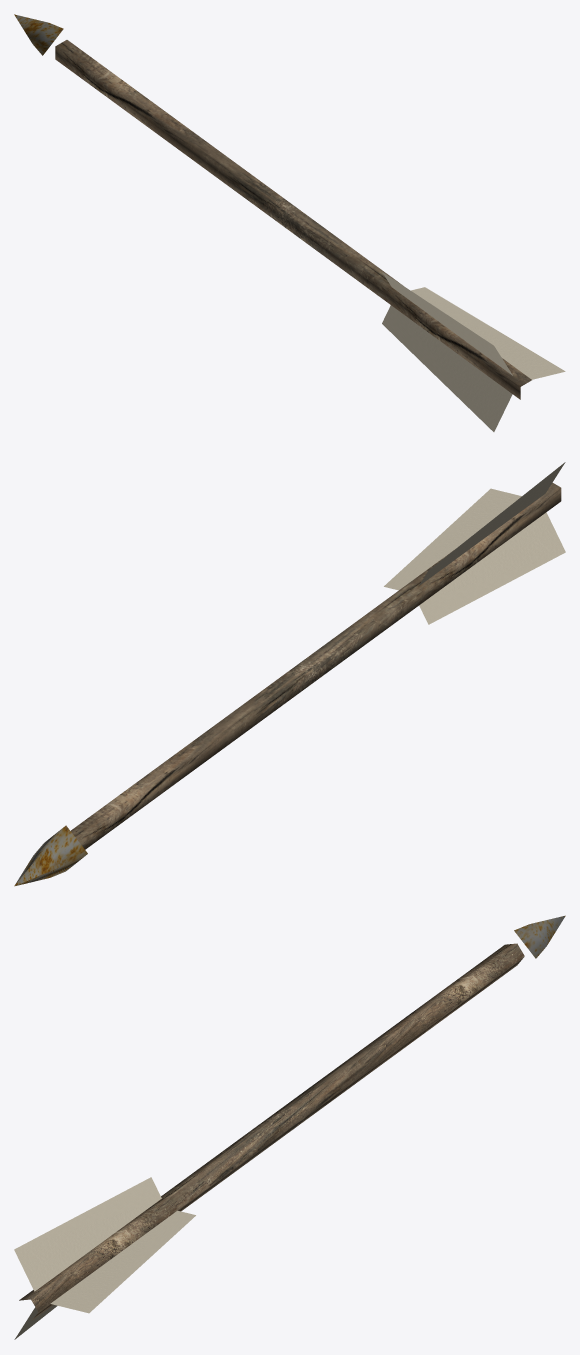
File: Arrow.gltf
The picture shows the model from 3 angles, top to bottom: view 1: azimuth 30°, elevation 25°; view 2: azimuth 150°, elevation 25°; view 3: azimuth 330°, elevation 25°; orthographic projection. The views are drawn at different scales.
Parts seen in each view (by area): view 1: Arrow; view 2: Arrow; view 3: Arrow.
Part boxes in pixels (bbox=[...]): Arrow: bbox=[14, 14, 565, 431]; Arrow: bbox=[14, 462, 565, 886]; Arrow: bbox=[14, 915, 565, 1339].
Size of the model in its own units: 0.075 by 0.0866 by 0.93.
Materials: 3 (3 with a texture image).
